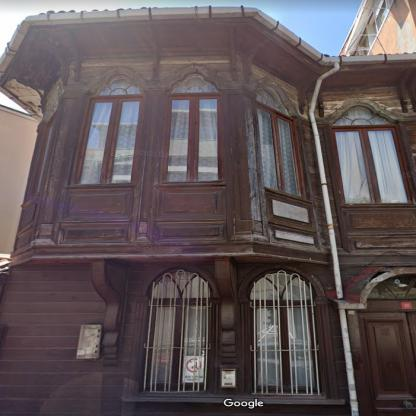door: (362, 316, 415, 414)
window: (335, 130, 410, 204), (76, 99, 141, 184), (254, 306, 314, 388), (166, 97, 220, 182), (149, 306, 207, 385), (257, 107, 301, 197), (352, 0, 393, 54), (250, 273, 312, 302), (151, 272, 212, 298), (332, 108, 393, 126), (96, 78, 143, 96), (169, 76, 218, 93), (256, 90, 286, 114)
